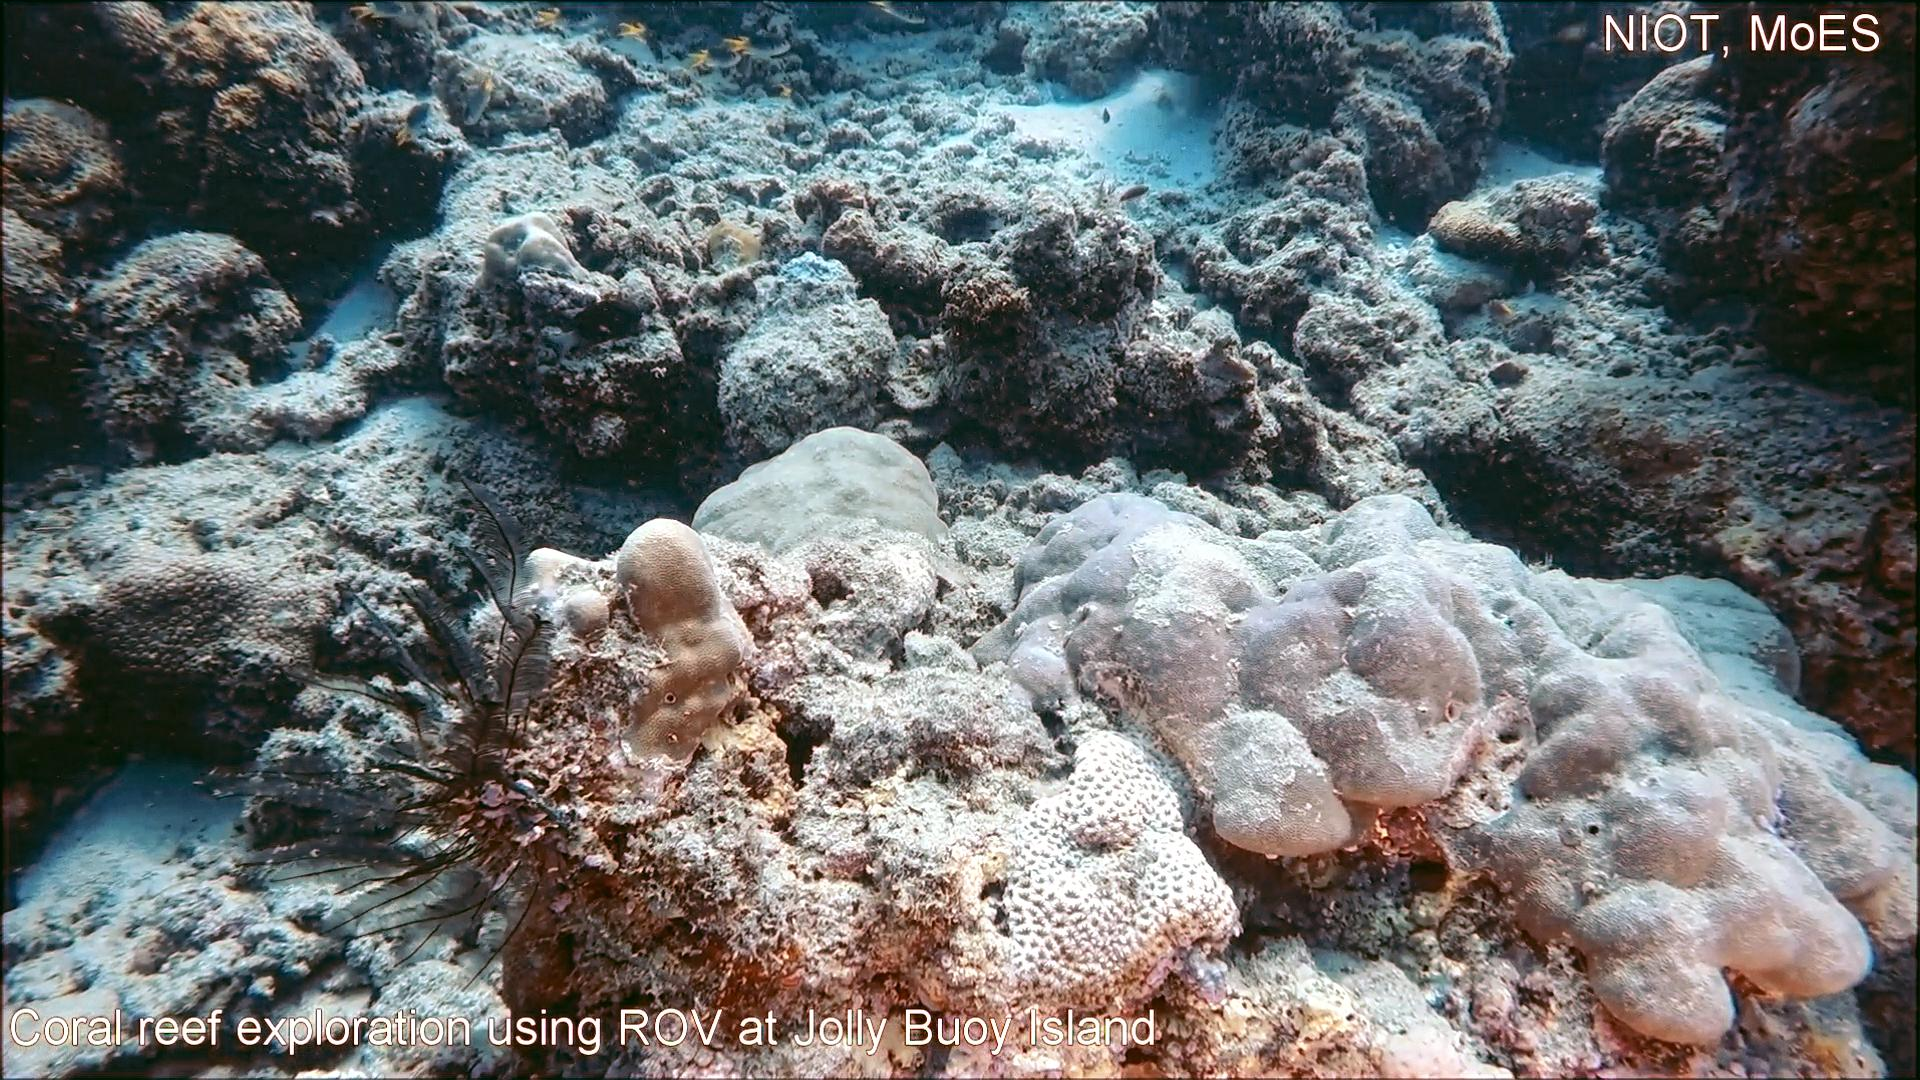Feather star-Crinoid star: (187, 464, 595, 1014)
Goniastrea-Goniastrea pectinata: (998, 720, 1253, 1023)
Porites-Porites pukoensis: (1346, 487, 1920, 1080)
Turbinaria-Turbinaria stellulata: (65, 549, 345, 721)
